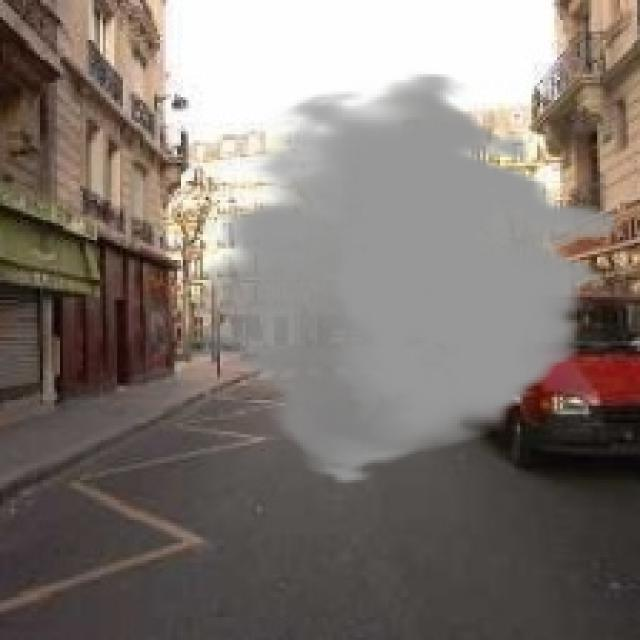Smoke: (197, 71, 614, 486)
